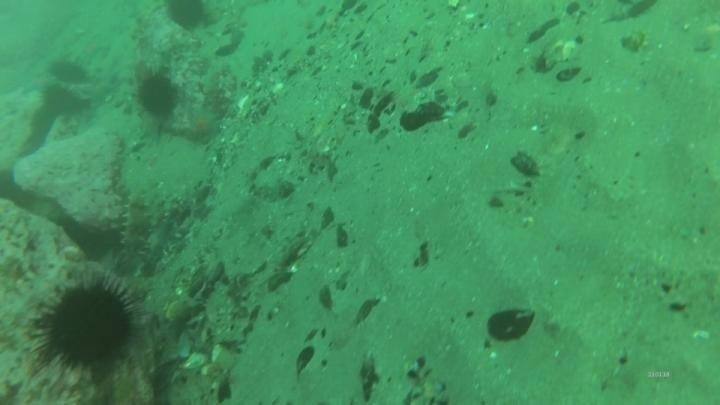echinus: (31, 276, 140, 379), (134, 69, 180, 121), (162, 1, 212, 32), (40, 82, 83, 118), (48, 56, 90, 86)
holothurian: (115, 190, 154, 275), (141, 213, 177, 269)
starfish: (182, 103, 224, 143), (18, 70, 58, 97)
